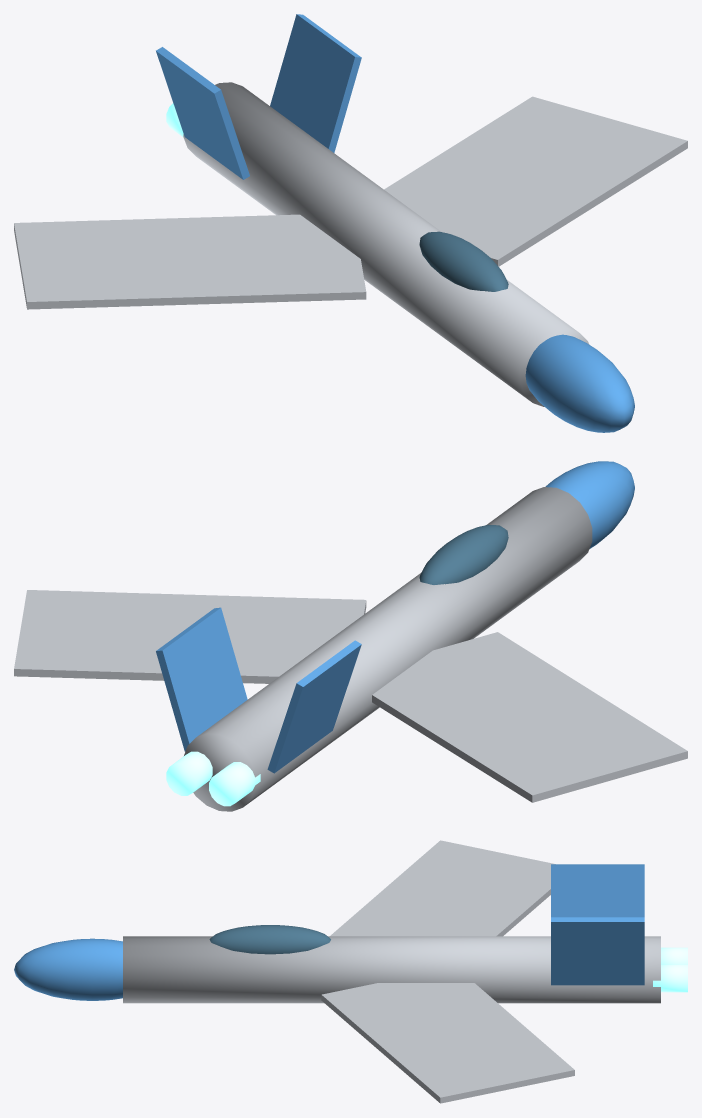
The model's file is jet_plane.glb.
3 views of the same model, one above another, from view 1: azimuth 30°, elevation 25°; view 2: azimuth 150°, elevation 25°; view 3: azimuth 270°, elevation 25° (orthographic). The views are drawn at different scales.
Parts seen in each view (by area): view 1: Fuselage, WingL, WingR, NoseCone, TailR, TailL, Canopy; view 2: Fuselage, WingL, WingR, TailR, TailL, NoseCone, Canopy, BurnerL, BurnerR; view 3: Fuselage, WingR, WingL, TailR, NoseCone, TailL, Canopy, BurnerR, BurnerL.
Part boxes in pixels (<box>): Fuselage: <box>183,82,589,406</box>; WingL: <box>14,214,366,309</box>; WingR: <box>384,96,687,266</box>; NoseCone: <box>525,334,634,432</box>; TailR: <box>270,14,361,152</box>; TailL: <box>156,47,249,179</box>; Canopy: <box>419,231,508,291</box>; Fuselage: <box>184,487,592,811</box>; WingL: <box>372,632,687,802</box>; WingR: <box>14,590,366,683</box>; TailR: <box>156,607,247,751</box>; TailL: <box>267,640,361,773</box>; NoseCone: <box>545,461,634,548</box>; Canopy: <box>419,525,508,584</box>; BurnerL: <box>209,762,260,806</box>; BurnerR: <box>166,751,212,795</box>; Fuselage: <box>123,936,660,1003</box>; WingR: <box>321,983,574,1103</box>; WingL: <box>330,840,555,936</box>; TailR: <box>551,917,644,985</box>; NoseCone: <box>14,938,122,1000</box>; TailL: <box>551,864,644,917</box>; Canopy: <box>209,925,330,954</box>; BurnerR: <box>653,964,687,992</box>; BurnerL: <box>661,947,687,963</box>.
Bounding box in the file's own units: 13.02 × 2.57 × 14.41.
